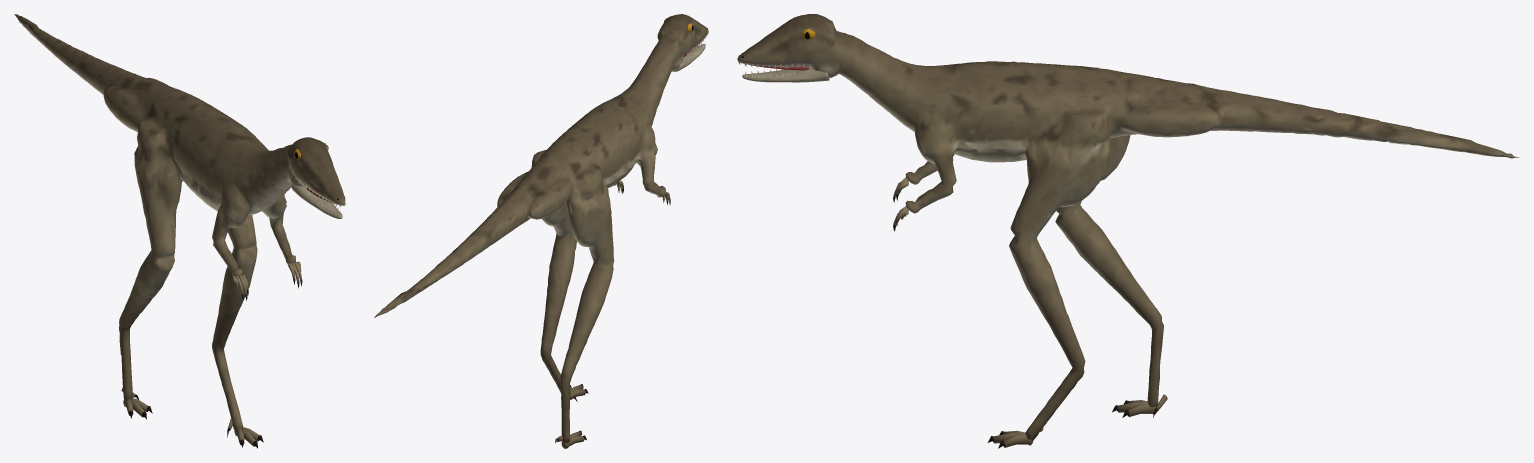
The model's file is Lagerpeton.fbx.
The picture shows the model from 3 angles, left to right: view 1: azimuth 30°, elevation 25°; view 2: azimuth 150°, elevation 25°; view 3: azimuth 270°, elevation 25°; orthographic projection. The views are drawn at different scales.
Parts seen in each view (by area): view 1: Lagerpeton; view 2: Lagerpeton; view 3: Lagerpeton.
Part boxes in pixels (x1,y1,x2,y2): Lagerpeton: [14, 14, 345, 448]; Lagerpeton: [374, 14, 708, 448]; Lagerpeton: [737, 14, 1519, 448].
Size of the model in its own units: 0.209 by 0.8264 by 1.42.
